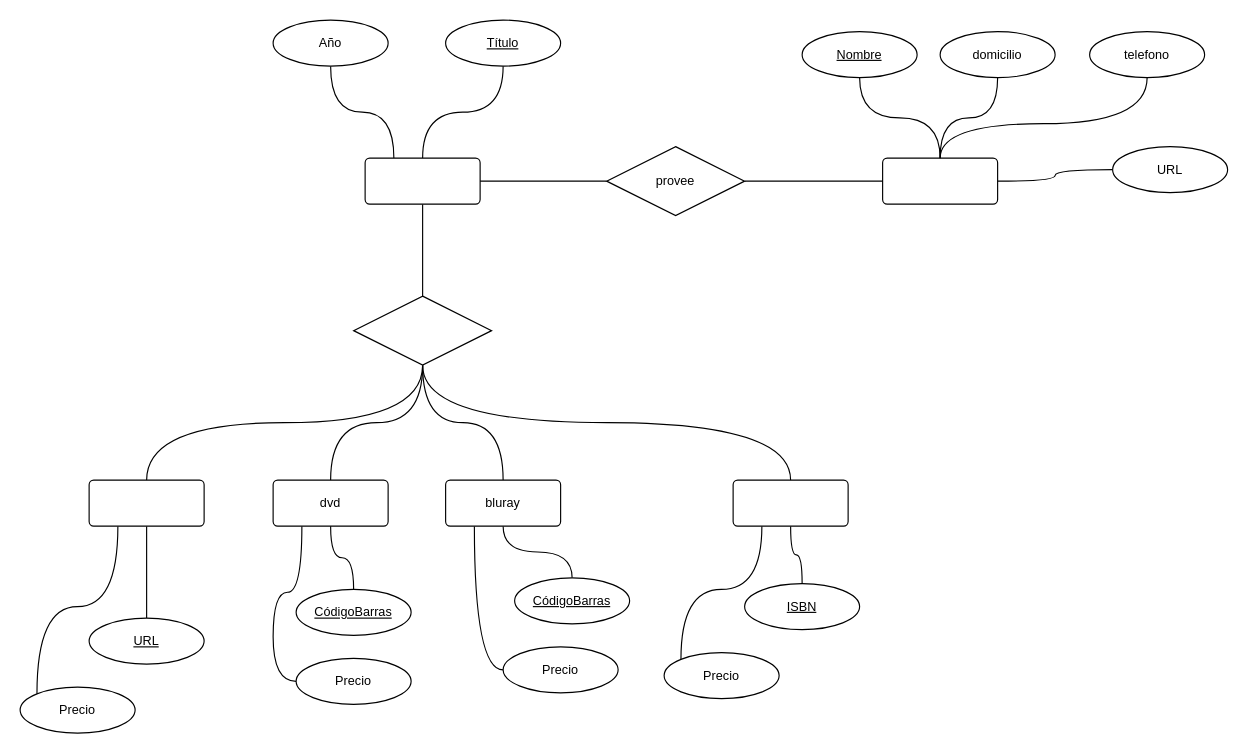
This 1248x753 diagram has some shape labels left out. The centre of each missing label's shape, as x and y in pixels:
"es" belongs at (422,330).
"libro" belongs at (790,502).
"producto" belongs at (422,180).
"proveedor" belongs at (939,180).
"video" belongs at (146,502).
